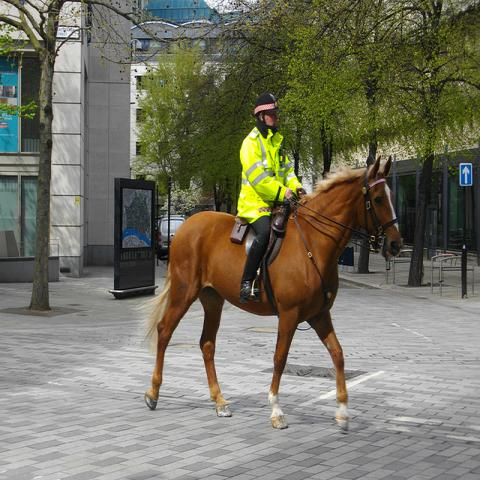car: (158, 214, 186, 259)
